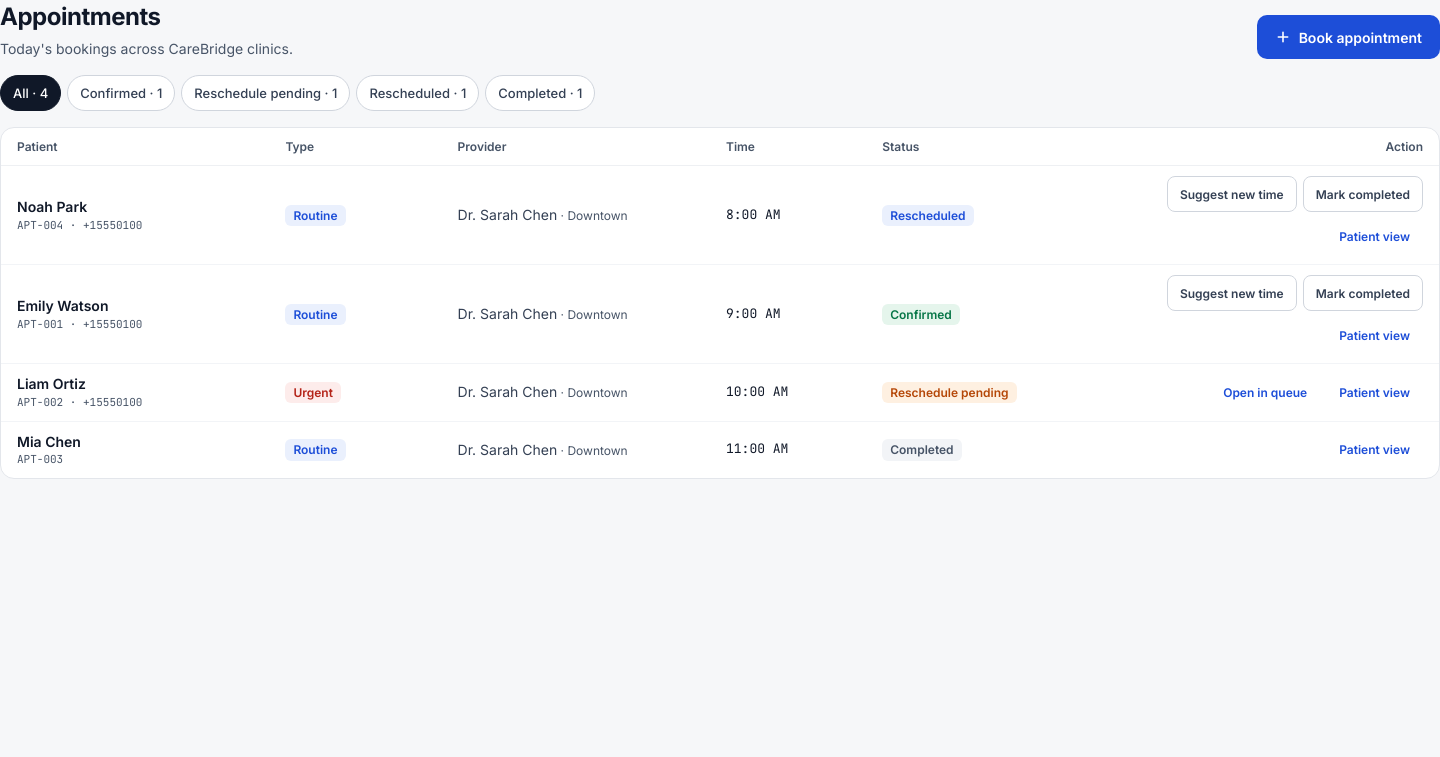
it: BookingForm › defaults to the first online provider and lists only future open slots, earliest first
Click the button "Book appointment" at coordinates (1348, 37), box x1=1257 y1=15 x2=1439 y2=59
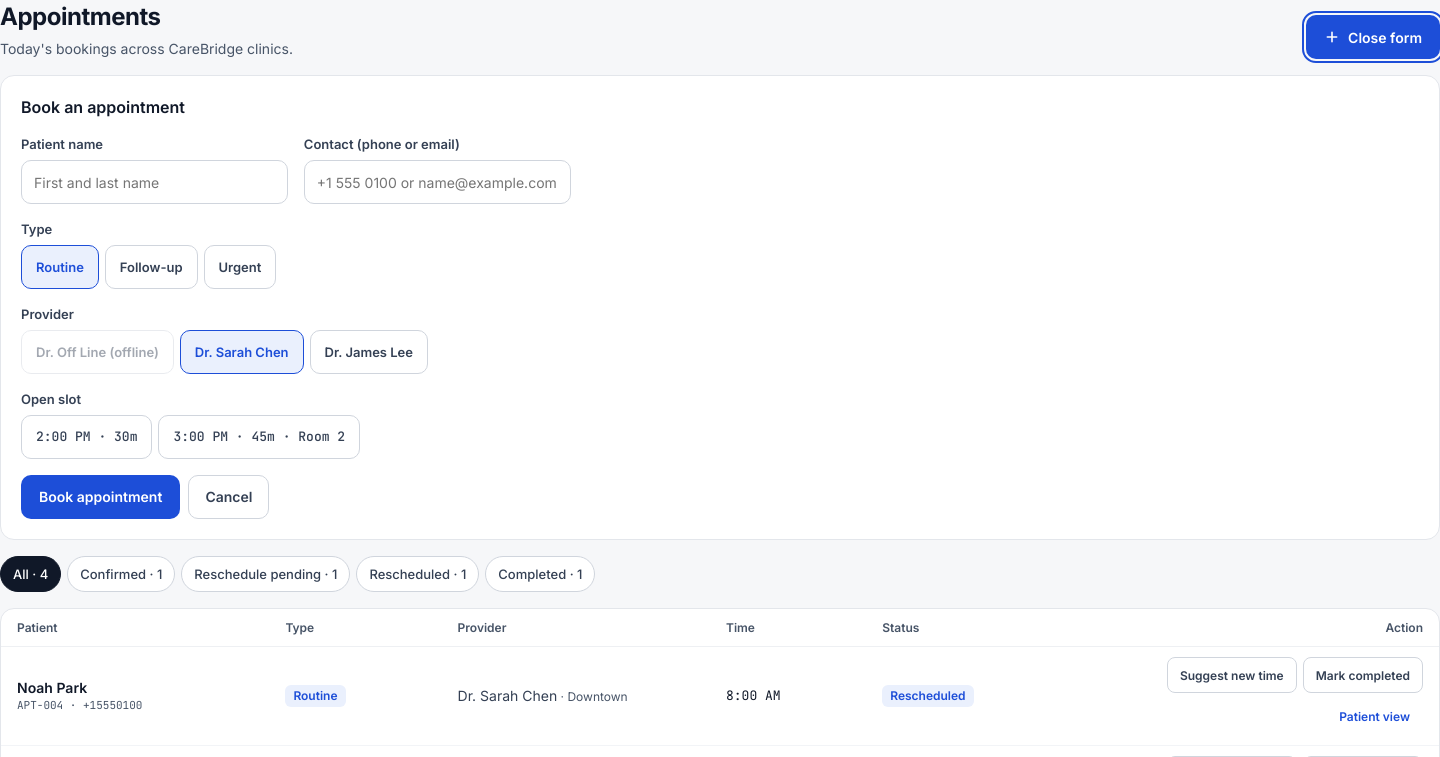
Check: the button "Close form" is expanded, box x1=1306 y1=15 x2=1439 y2=59
Check: the button "Dr. Off Line (offline)" is disabled, box x1=21 y1=330 x2=174 y2=374
Check: the buttons read "2:00 PM · 30m", "3:00 PM · 45m · Room 2", in this order, box x1=21 y1=415 x2=152 y2=459; x1=158 y1=415 x2=360 y2=459
